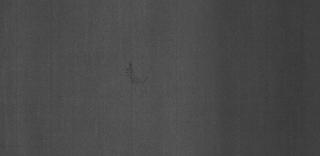water spot: (121, 56, 155, 92)
